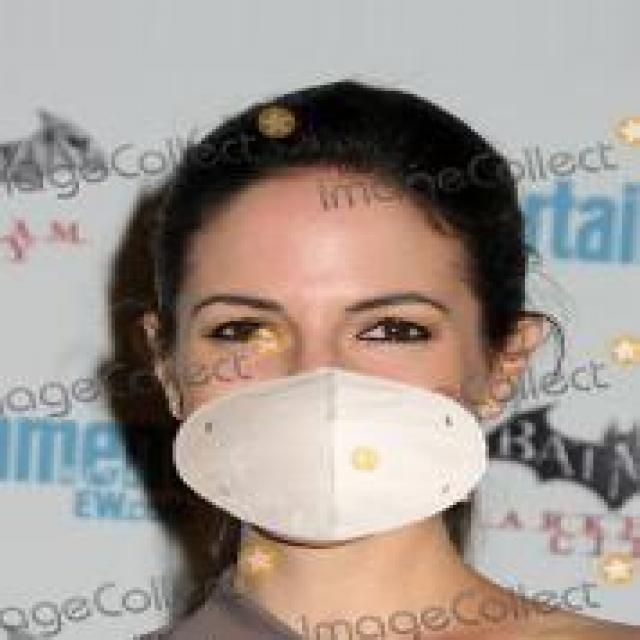mask: (105, 97, 582, 575)
